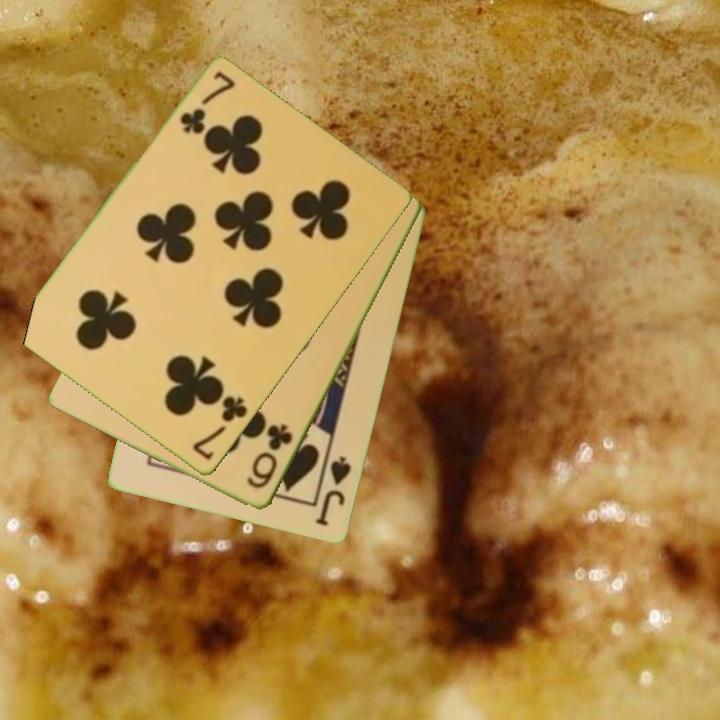6c: (243, 420, 296, 492)
7c: (189, 392, 251, 464), (176, 68, 238, 138)
Js: (312, 453, 355, 530)
